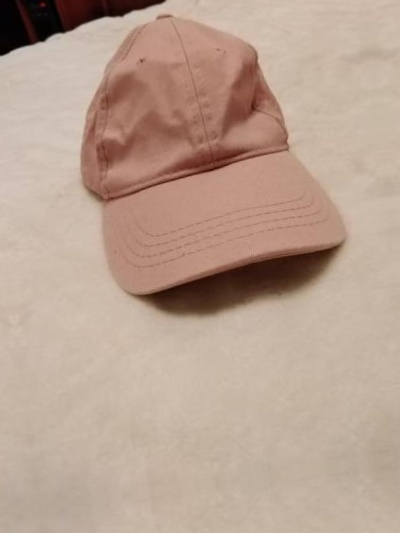Hat: (52, 0, 342, 322)
